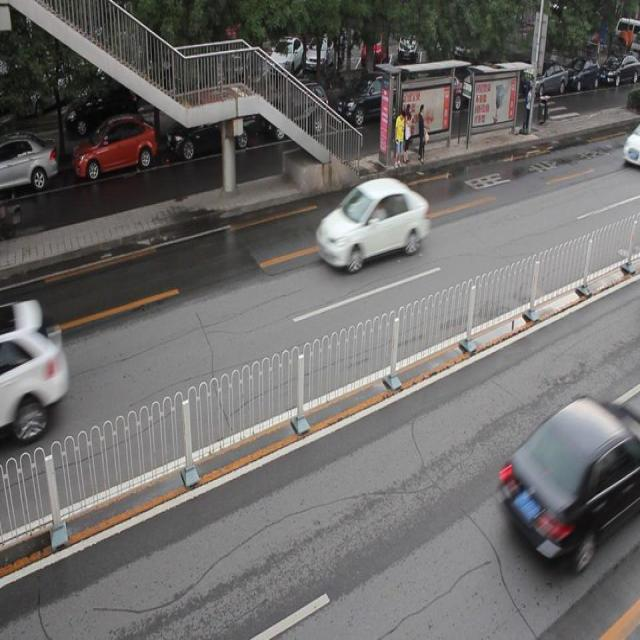car: (498, 397, 640, 567), (314, 178, 428, 268), (1, 310, 68, 427), (166, 89, 256, 155), (74, 118, 160, 181), (263, 81, 331, 141), (336, 71, 408, 127), (1, 134, 60, 193)
